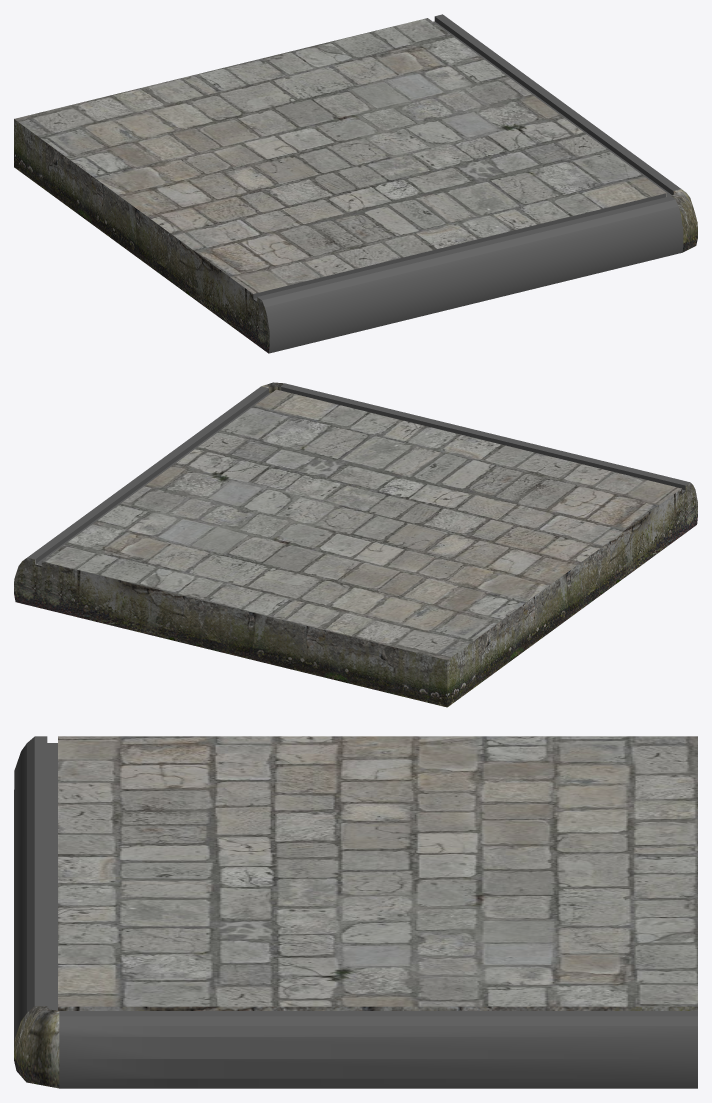
Rendered from PavementPieces01.fbx.
3 renders of one model, top to bottom at view 1: azimuth 30°, elevation 25°; view 2: azimuth 150°, elevation 25°; view 3: azimuth 270°, elevation 25°, orthographic. The views are drawn at different scales.
Parts seen in each view (by area): view 1: PavementPieces08; view 2: PavementPieces08; view 3: PavementPieces08.
Part boxes in pixels (left/top/right/bottom): PavementPieces08: left=14, top=14, right=697, bottom=353; PavementPieces08: left=14, top=382, right=697, bottom=707; PavementPieces08: left=14, top=736, right=697, bottom=1088.
Bounding box in the file's own units: 130 × 13.59 × 130.
